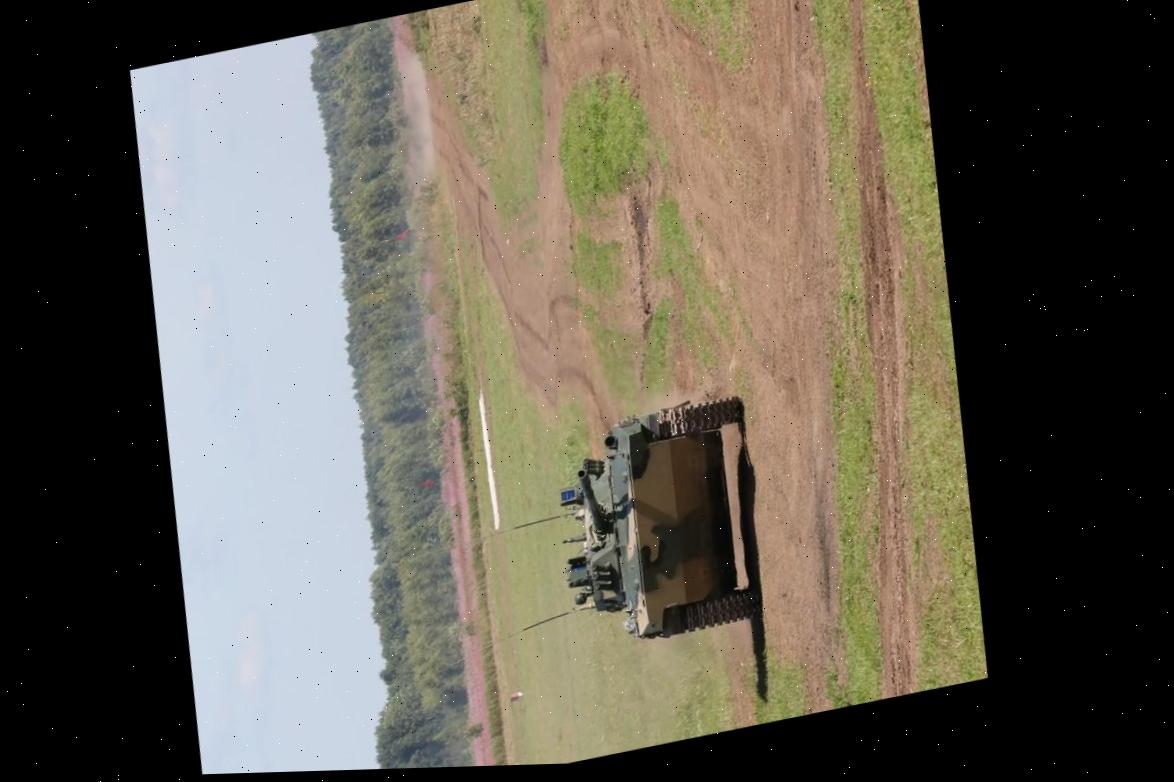tank: (531, 388, 782, 659)
